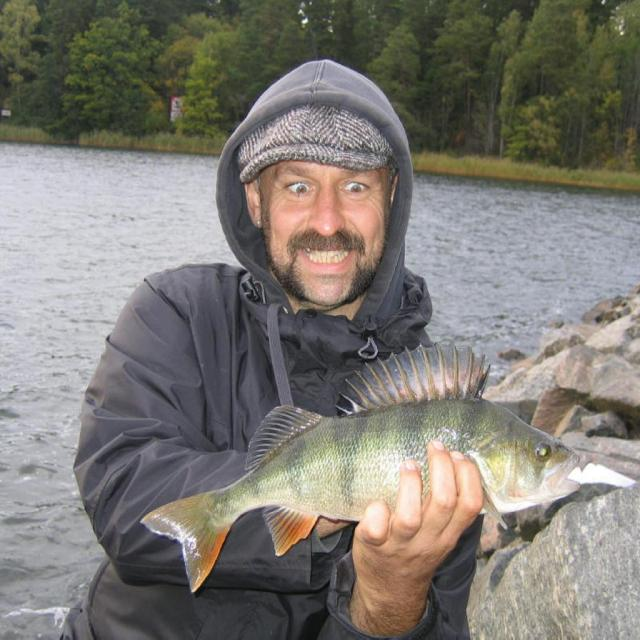Face: (243, 128, 403, 320)
